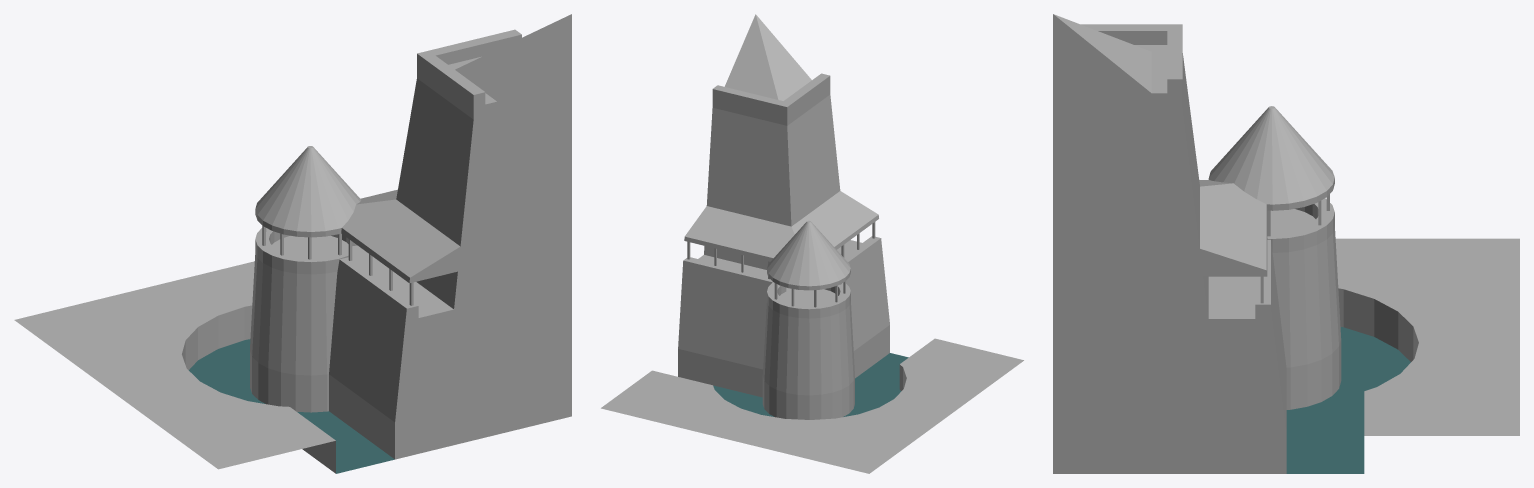
Rendered from wwcw.obj.
3 views of the same model, side by side, from view 1: azimuth 30°, elevation 25°; view 2: azimuth 150°, elevation 25°; view 3: azimuth 270°, elevation 25° (orthographic). The views are drawn at different scales.
Parts seen in each view (by area): view 1: wwcw; view 2: wwcw; view 3: wwcw.
Boxes of the visible parts, left/top/right/bottom form: wwcw: left=14, top=14, right=571, bottom=473; wwcw: left=601, top=14, right=1023, bottom=473; wwcw: left=1053, top=14, right=1519, bottom=473.
Bounding box in the file's own units: 30 × 32.63 × 30.
